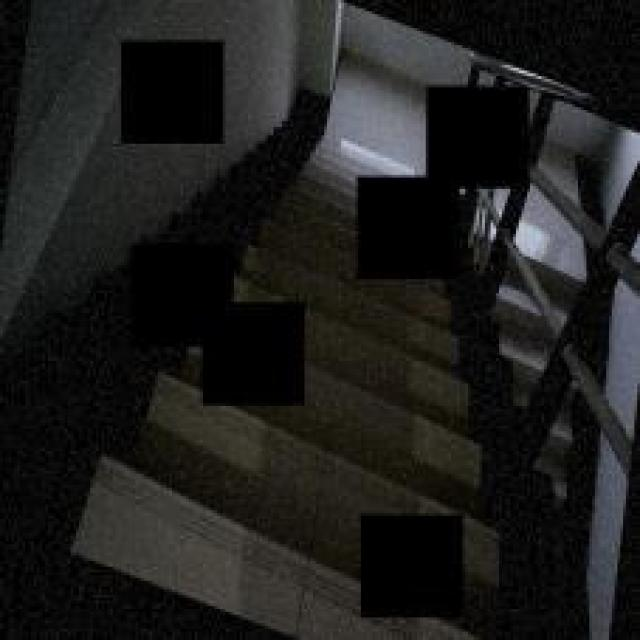downstair: (317, 303, 489, 497)
